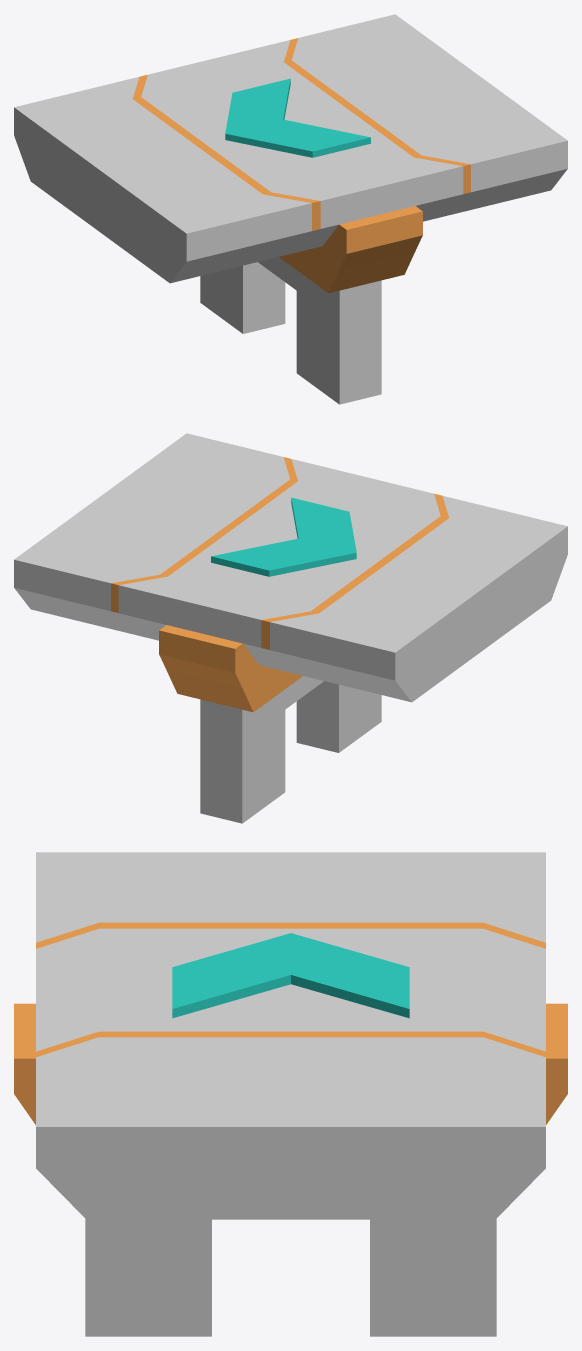
File: covoyeur magnétique.fbx
3 renders of one model, top to bottom at view 1: azimuth 30°, elevation 25°; view 2: azimuth 150°, elevation 25°; view 3: azimuth 270°, elevation 25°, orthographic. The views are drawn at different scales.
Visible parts, largest first — view 1: Cube.003; view 2: Cube.003; view 3: Cube.003.
Part boxes in pixels (left/top/right/bottom): Cube.003: left=14, top=14, right=567, bottom=404; Cube.003: left=14, top=433, right=567, bottom=823; Cube.003: left=14, top=852, right=567, bottom=1336.
Bounding box in the file's own units: 904 × 523 × 770.
